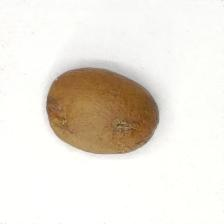NG: (45, 94, 72, 137), (112, 117, 137, 137)
